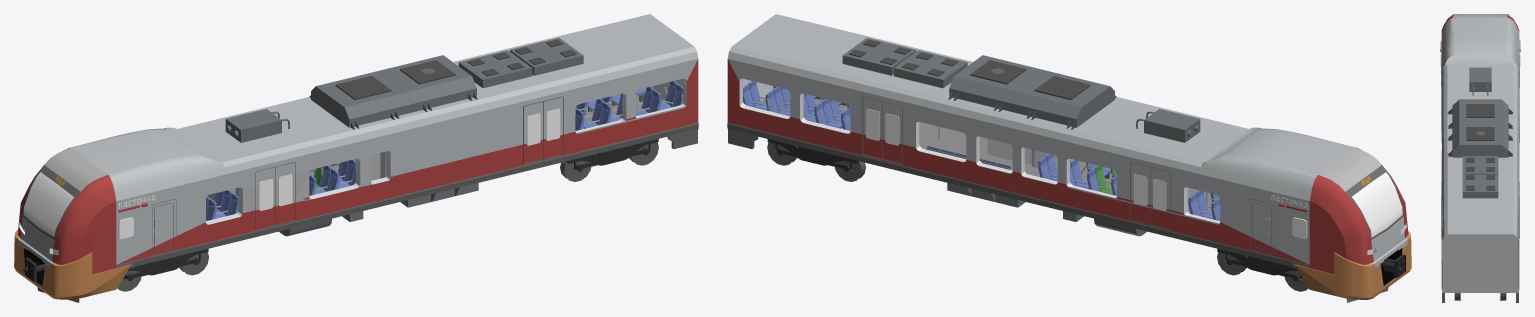
File: lastochka.glb
The picture shows the model from 3 angles, left to right: view 1: azimuth 30°, elevation 25°; view 2: azimuth 150°, elevation 25°; view 3: azimuth 270°, elevation 25°; orthographic projection. The views are drawn at different scales.
Visible parts, largest first — view 1: polySurface171, pCube16, pCube13, polySurface652, pCube17, polySurface651, pCube18, pCube15, polySurface314, polySurface551, pCube103, pCube104 (+2 smaller); view 2: polySurface171, pCube16, pCube13, pCube34, polySurface652, polySurface314, pCube17, polySurface651, pCube18, pCube15, polySurface562, pCube103 (+3 smaller); view 3: polySurface171, pCube16, pCube18, pCube15, pCube17, pCube109, pCube103, pCube104, polySurface196, polySurface652, polySurface562.
Boxes of the visible parts, x1,y1,x2,y2 form: polySurface171: [17, 14, 698, 274]; pCube16: [311, 55, 476, 127]; pCube13: [14, 230, 131, 299]; polySurface652: [560, 139, 658, 181]; pCube17: [458, 50, 532, 88]; polySurface651: [117, 249, 208, 291]; pCube18: [510, 37, 583, 75]; pCube15: [225, 109, 281, 142]; polySurface314: [309, 159, 355, 195]; polySurface551: [255, 162, 295, 229]; pCube103: [335, 76, 391, 99]; pCube104: [400, 60, 455, 84]; polySurface171: [727, 14, 1408, 274]; pCube16: [949, 55, 1114, 127]; pCube13: [1294, 231, 1411, 299]; pCube34: [761, 98, 1212, 211]; polySurface652: [767, 139, 865, 181]; polySurface314: [1038, 153, 1116, 195]; pCube17: [894, 50, 967, 88]; polySurface651: [1217, 248, 1308, 291]; pCube18: [842, 37, 916, 75]; pCube15: [1144, 109, 1200, 142]; polySurface562: [862, 96, 902, 164]; pCube103: [1034, 76, 1090, 99]; polySurface171: [1441, 14, 1519, 292]; pCube16: [1452, 99, 1508, 157]; pCube18: [1462, 174, 1498, 198]; pCube15: [1469, 67, 1491, 91]; pCube17: [1462, 156, 1498, 174]; pCube109: [1466, 157, 1494, 190]; pCube103: [1466, 104, 1494, 117]; pCube104: [1466, 127, 1494, 140]; polySurface196: [1447, 108, 1513, 156]; polySurface652: [1454, 293, 1506, 300]; polySurface562: [1518, 182, 1519, 238].
Bounding box in the file's own units: 0.2294 × 0.0439 × 0.0336.
